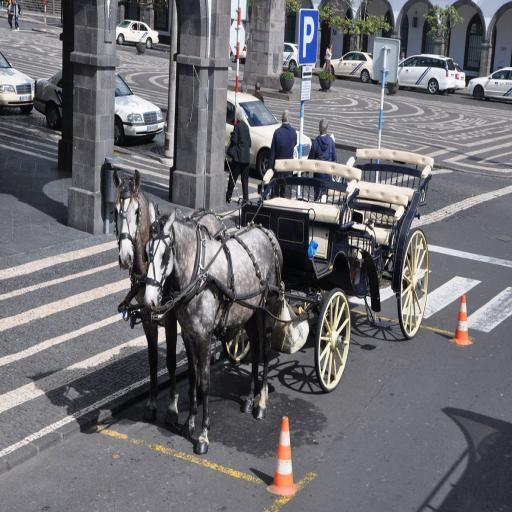horse: (141, 210, 286, 460), (114, 169, 210, 414)
